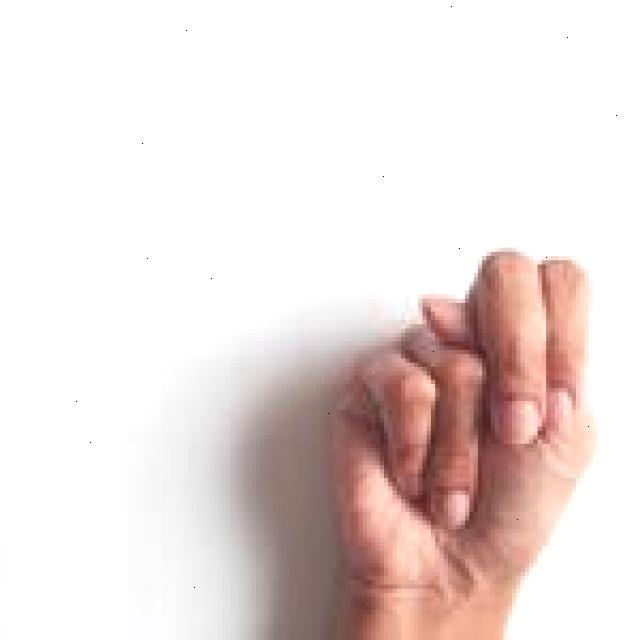N: (321, 242, 609, 640)
